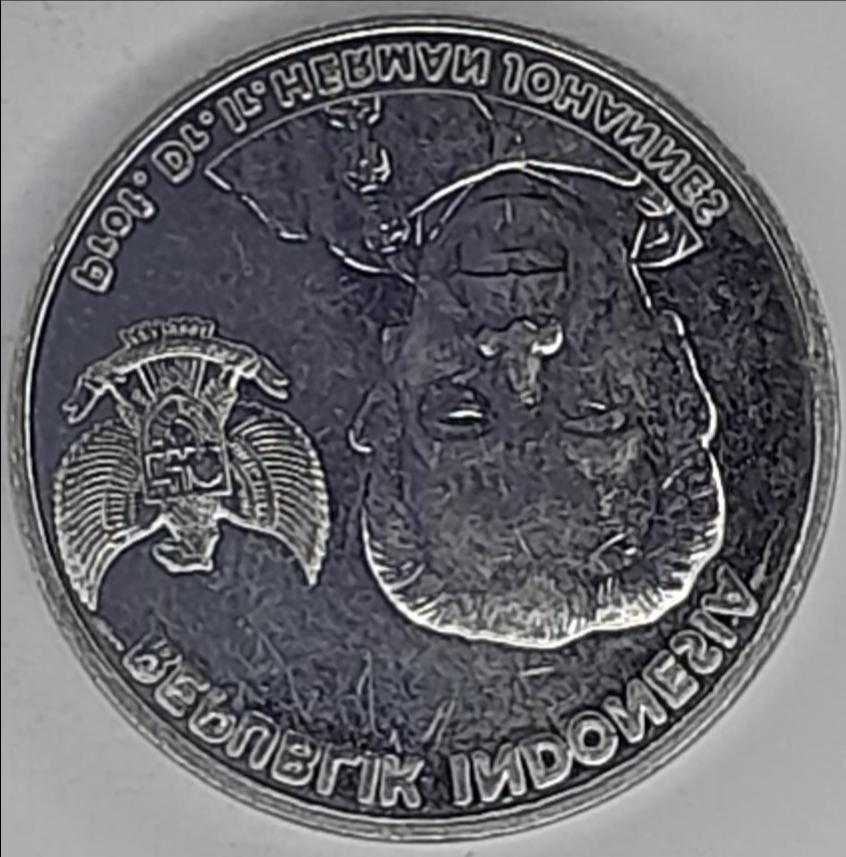coin_100_e2016: (4, 6, 844, 844)
